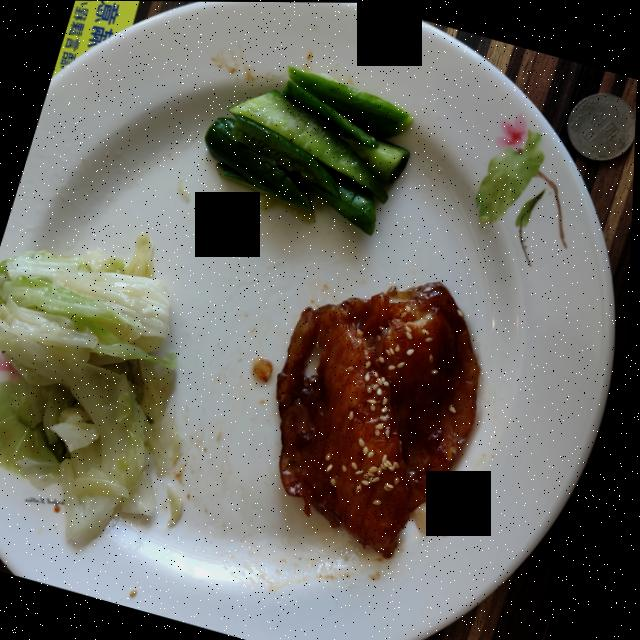Kabayaki sea bream fillet: (279, 281, 482, 557)
cabbage: (0, 233, 184, 543)
coin: (567, 92, 637, 160)
cucumber: (206, 66, 413, 234)
